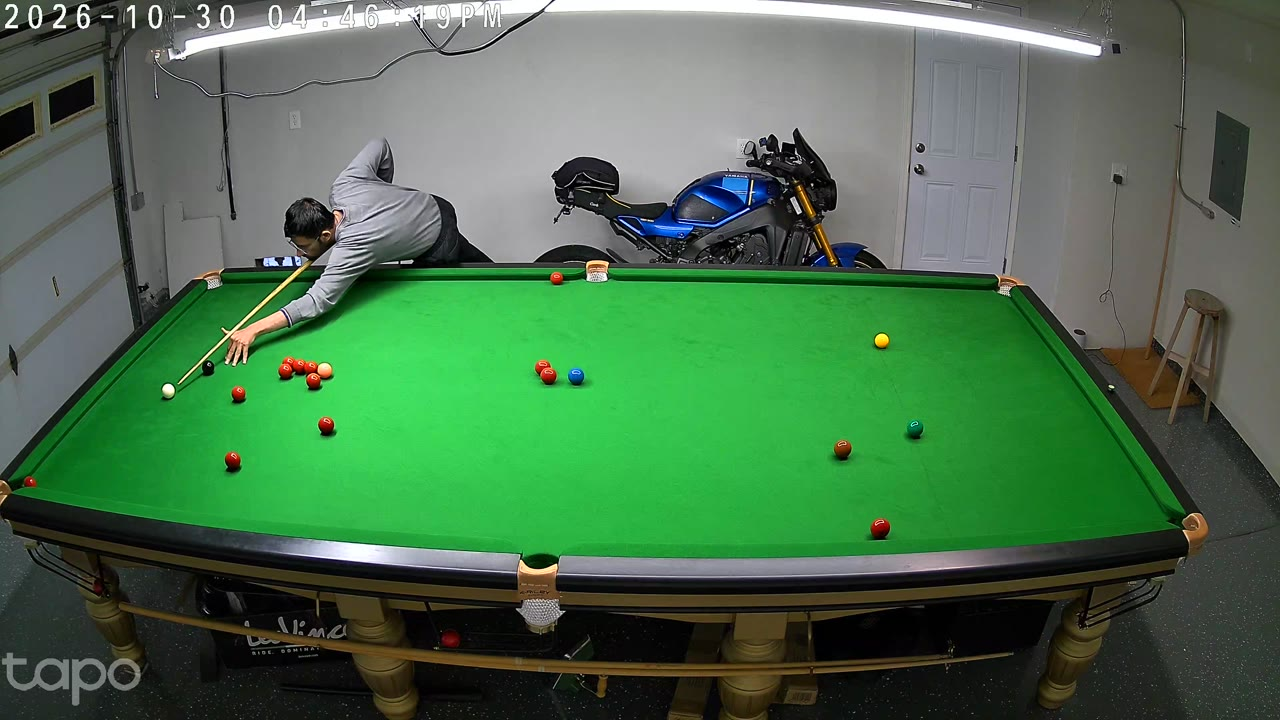black: (203, 359, 215, 378)
blue: (568, 366, 584, 388)
brown: (834, 438, 852, 463)
green: (906, 417, 923, 441)
pink: (318, 362, 331, 382)
red: (869, 515, 891, 546), (225, 449, 241, 473), (319, 415, 334, 437), (232, 384, 246, 405), (24, 475, 37, 496), (279, 362, 292, 382), (540, 360, 552, 381), (283, 355, 295, 376), (542, 366, 554, 386), (307, 371, 319, 391), (305, 360, 316, 379), (535, 360, 545, 379), (551, 271, 562, 288), (295, 358, 305, 376)
white: (162, 382, 175, 401)
yellow: (875, 332, 889, 351)
